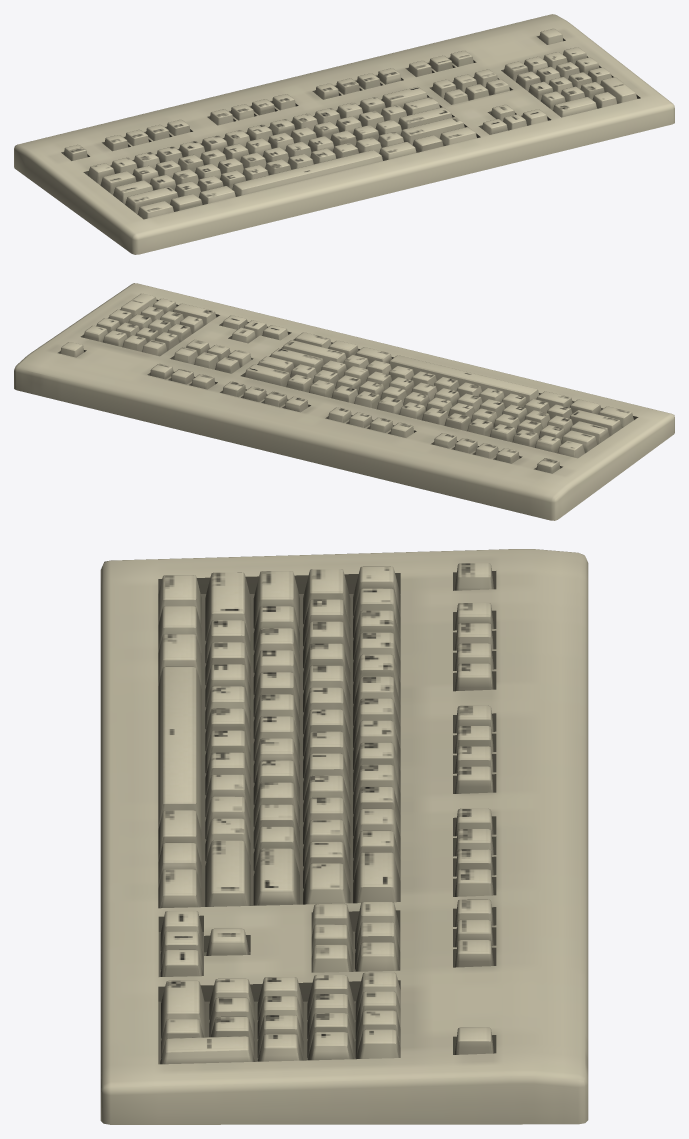
File: keyboard.fbx
3 views of the same model, one above another, from view 1: azimuth 30°, elevation 25°; view 2: azimuth 150°, elevation 25°; view 3: azimuth 270°, elevation 25° (orthographic). The views are drawn at different scales.
Visible parts, largest first — view 1: Keyboard; view 2: Keyboard; view 3: Keyboard.
Part boxes in pixels (x1=…): Keyboard: x1=14, y1=14, x2=674, y2=254; Keyboard: x1=14, y1=283, x2=674, y2=520; Keyboard: x1=100, y1=549, x2=588, y2=1124.
Size of the model in its own units: 48.63 by 2.57 by 18.91.
